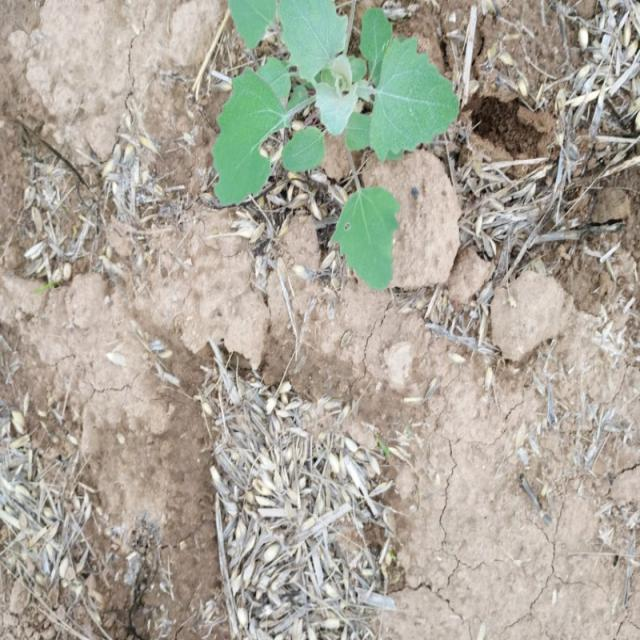goosefoots: (202, 0, 444, 285)
